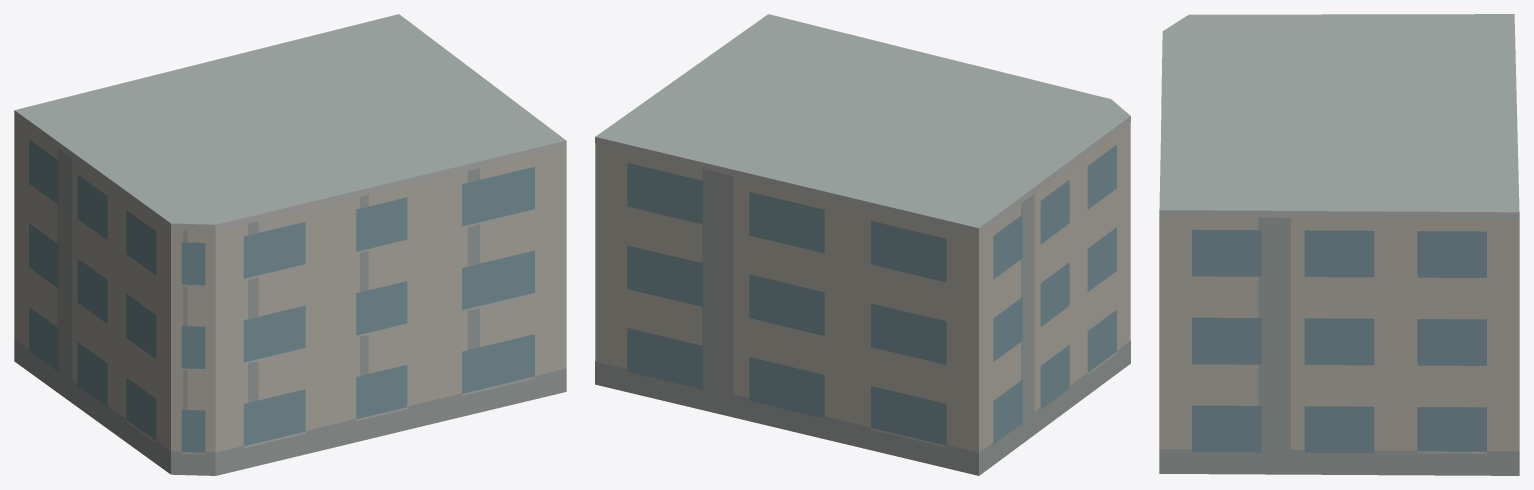
The model's file is residential-fc3d5d47-f380-4270-9a5f-721527741f58.glb.
3 views of the same model, side by side, from view 1: azimuth 30°, elevation 25°; view 2: azimuth 150°, elevation 25°; view 3: azimuth 270°, elevation 25° (orthographic). The views are drawn at different scales.
Parts seen in each view (by area): view 1: residential-fc3d5d47-f380-4270-9a5f-721527741f58.tmp; view 2: residential-fc3d5d47-f380-4270-9a5f-721527741f58.tmp; view 3: residential-fc3d5d47-f380-4270-9a5f-721527741f58.tmp.
Boxes of the visible parts, x1,y1,x2,y2 form: residential-fc3d5d47-f380-4270-9a5f-721527741f58.tmp: (14,14,566,475); residential-fc3d5d47-f380-4270-9a5f-721527741f58.tmp: (595,14,1130,475); residential-fc3d5d47-f380-4270-9a5f-721527741f58.tmp: (1159,14,1519,475).
Bounding box in the file's own units: 14.85 × 9.2 × 11.4.
